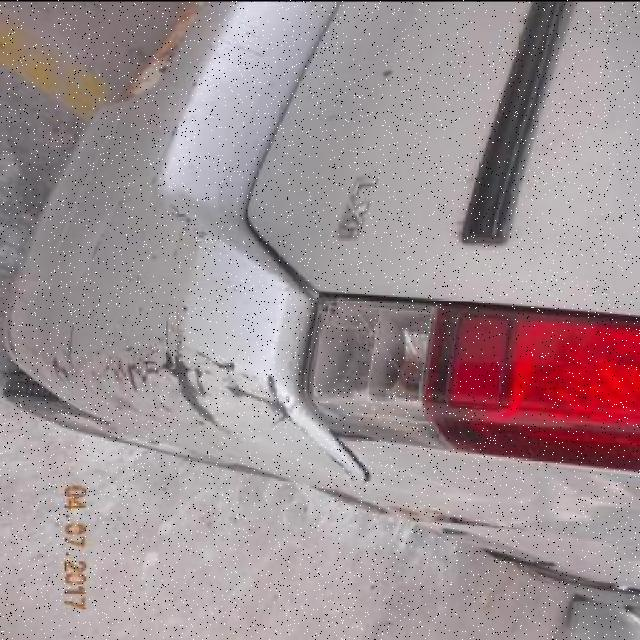damage: (39, 301, 364, 487), (147, 74, 207, 269), (376, 503, 531, 534)
